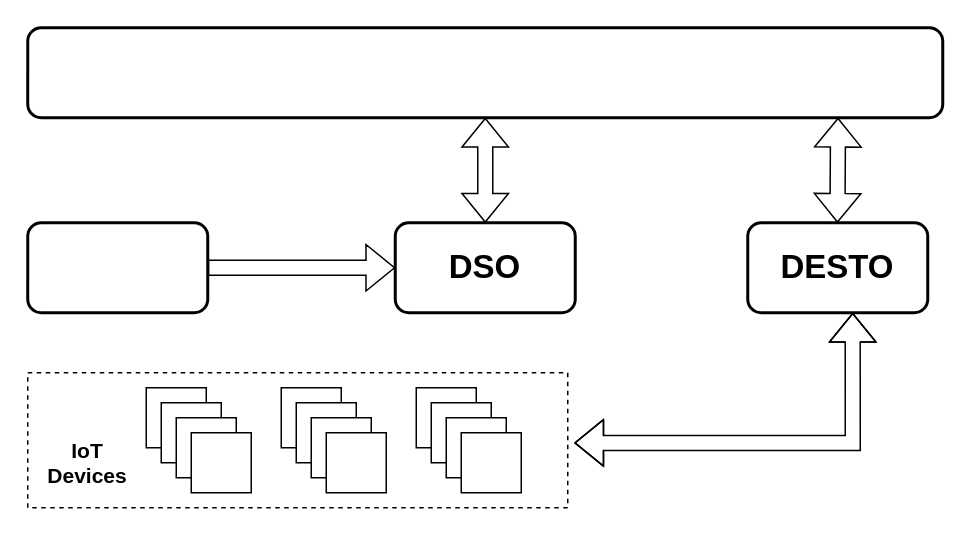
Some shapes in this 969 by 534 pixel diagram are drawn without their labels. Each missing label, with the centre of its shape:
"Energy Exchange" belongs at (x=117, y=267).
"Interoperability Layer" belongs at (x=485, y=72).
